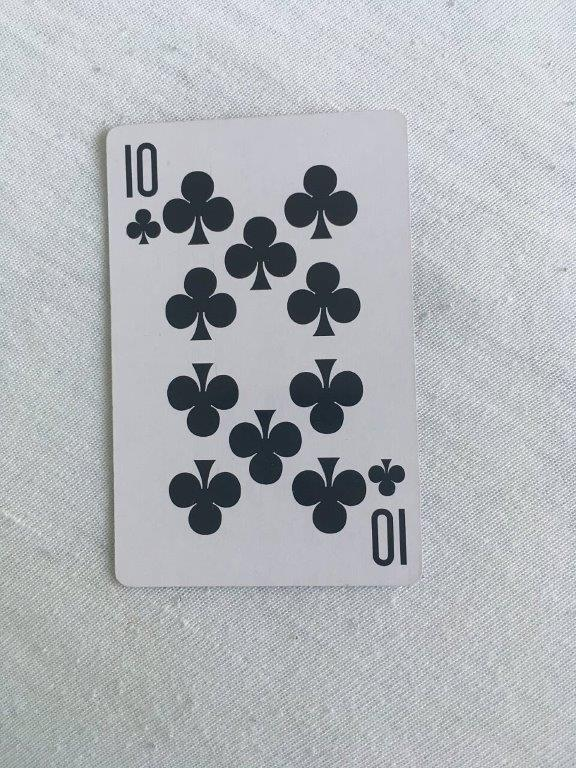10C: (103, 108, 427, 592)
